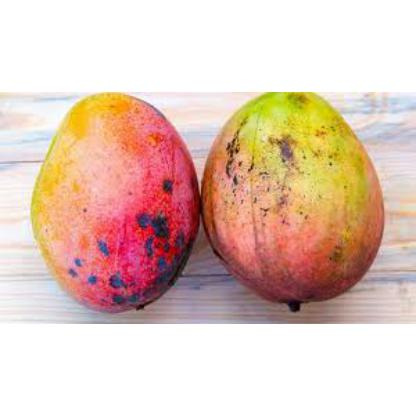damaged_apple: (202, 95, 390, 312), (30, 92, 196, 312)
